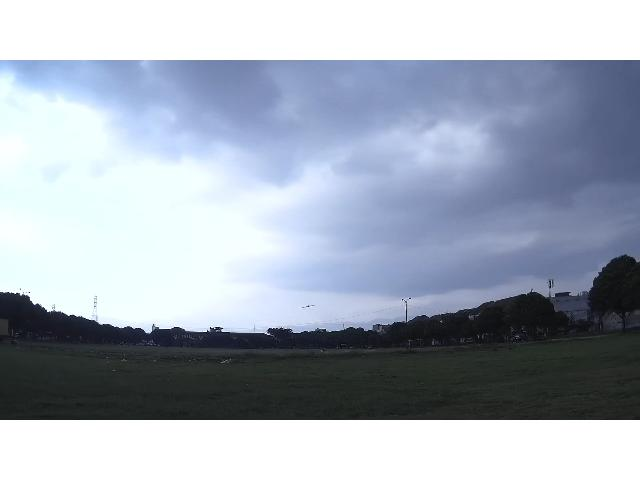Anti-Drone: (300, 304, 316, 308)
